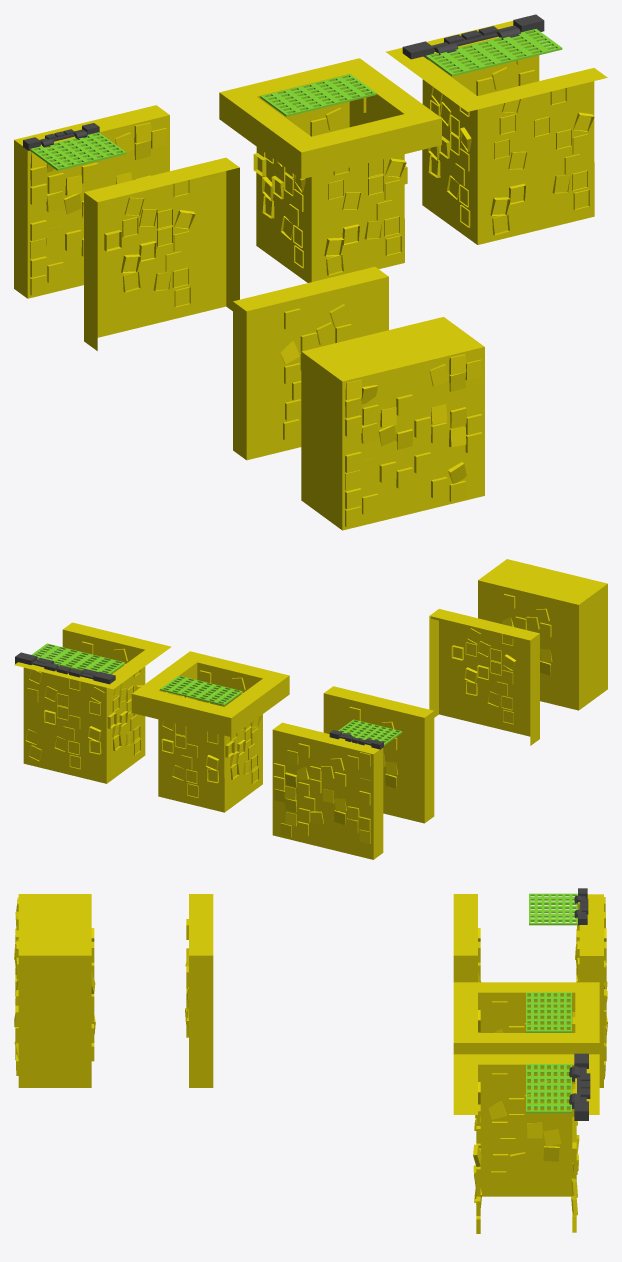
File: TrapsP2.fbx
3 views of the same model, one above another, from view 1: azimuth 30°, elevation 25°; view 2: azimuth 150°, elevation 25°; view 3: azimuth 270°, elevation 25° (orthographic). The views are drawn at different scales.
Parts seen in each view (by area): view 1: Killing_Pit, KillingPit_2, WallSide_1, Cube_6x6x6.004, Killing_Small_Corridor, Wallside_Complete, Wallside_2, TrapGrill_3, TrapGrill_2.001, TrapGrill_1, Holder_Long, Holder_Short; view 2: Killing_Small_Corridor, Killing_Pit, KillingPit_2, Wallside_Complete, Cube_6x6x6.004, Wallside_2, WallSide_1, TrapGrill_3, TrapGrill_2.001, Holder_Long, TrapGrill_1; view 3: KillingPit_2, Killing_Small_Corridor, Killing_Pit, WallSide_1, Wallside_2, Wallside_Complete, Cube_6x6x6.004, TrapGrill_3, TrapGrill_2.001, TrapGrill_1, Holder_Long.
Boxes of the visible parts, <box> form: Killing_Pit: <box>219,58,441,282</box>; KillingPit_2: <box>385,21,607,244</box>; WallSide_1: <box>328,337,484,530</box>; Cube_6x6x6.004: <box>84,157,239,350</box>; Killing_Small_Corridor: <box>233,266,456,509</box>; Wallside_Complete: <box>14,105,169,298</box>; Wallside_2: <box>315,327,470,519</box>; TrapGrill_3: <box>426,29,562,76</box>; TrapGrill_2.001: <box>260,74,376,116</box>; TrapGrill_1: <box>30,132,126,170</box>; Holder_Long: <box>402,14,544,59</box>; Holder_Short: <box>23,123,99,150</box>; Killing_Small_Corridor: <box>429,573,588,745</box>; Killing_Pit: <box>131,651,289,812</box>; KillingPit_2: <box>14,622,171,783</box>; Wallside_Complete: <box>272,722,383,859</box>; Cube_6x6x6.004: <box>323,686,434,823</box>; Wallside_2: <box>488,566,598,702</box>; WallSide_1: <box>498,559,607,695</box>; TrapGrill_3: <box>31,643,125,674</box>; TrapGrill_2.001: <box>160,675,242,705</box>; Holder_Long: <box>15,652,115,684</box>; TrapGrill_1: <box>338,719,402,745</box>; KillingPit_2: <box>453,1054,599,1233</box>; Killing_Small_Corridor: <box>67,894,213,1087</box>; Killing_Pit: <box>453,982,599,1130</box>; WallSide_1: <box>14,894,42,1087</box>; Wallside_2: <box>43,894,67,1087</box>; Wallside_Complete: <box>575,894,607,1087</box>; Cube_6x6x6.004: <box>453,894,480,982</box>; TrapGrill_3: <box>526,1064,571,1113</box>; TrapGrill_2.001: <box>526,992,571,1032</box>; TrapGrill_1: <box>529,893,577,925</box>; Holder_Long: <box>569,1053,590,1120</box>.
Bounding box in the file's own units: 2170 × 627 × 2442.
